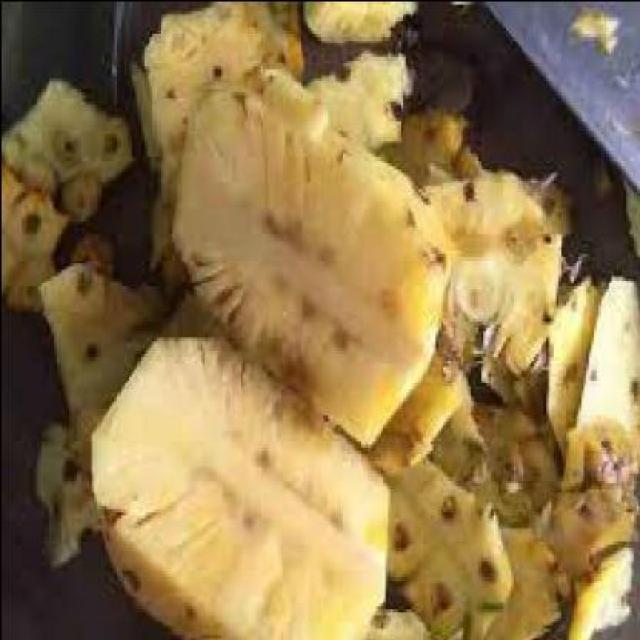BIODEGRADABLE: (176, 65, 450, 440), (88, 329, 392, 637), (137, 1, 297, 294), (35, 262, 158, 563), (422, 171, 564, 372), (382, 455, 509, 637), (2, 68, 128, 220), (560, 268, 637, 475), (441, 404, 557, 514), (375, 352, 467, 472), (303, 48, 409, 148), (467, 517, 555, 637), (539, 269, 595, 456), (542, 478, 635, 582), (2, 154, 60, 308), (376, 104, 475, 181), (562, 540, 627, 637), (297, 2, 414, 36), (63, 226, 111, 272), (566, 10, 614, 48), (374, 601, 424, 634)
